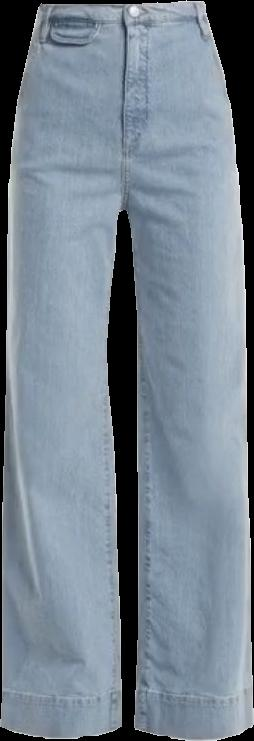Hemline: (0, 715, 123, 740), (131, 717, 253, 740)
Pantleg: (123, 2, 253, 738), (0, 3, 124, 738)
Waistline: (34, 13, 207, 33), (38, 0, 207, 10)
